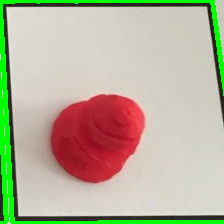Red Bishop: (45, 88, 148, 190)
